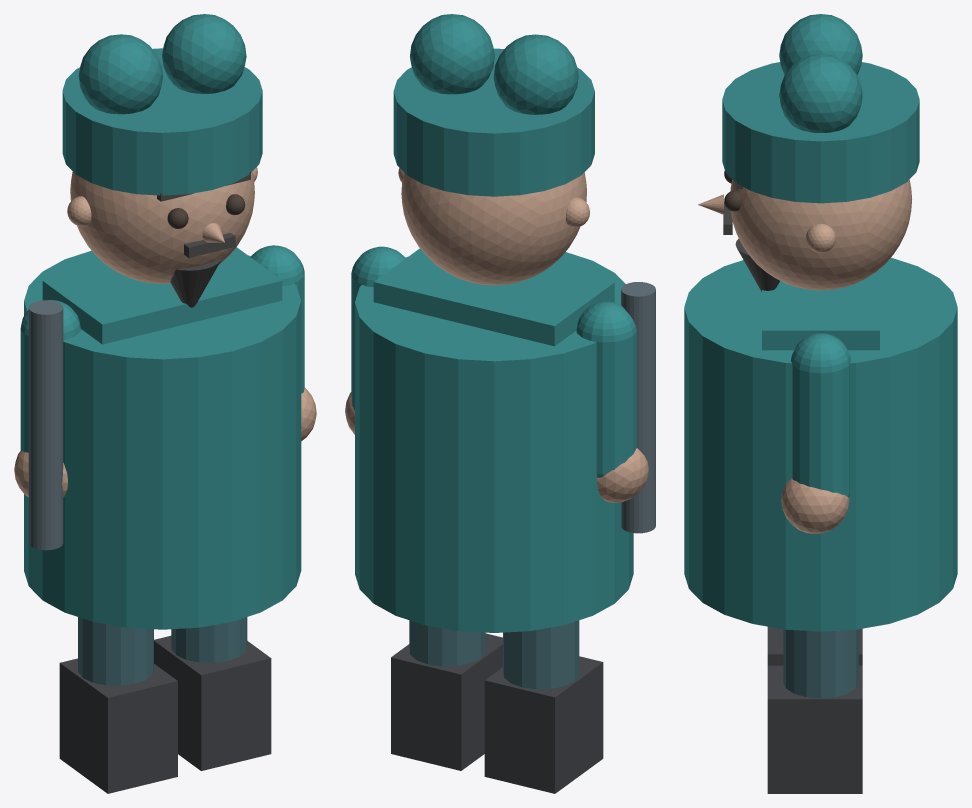
Rendered from hunmin.glb.
3 views of the same model, side by side, from view 1: azimuth 30°, elevation 25°; view 2: azimuth 150°, elevation 25°; view 3: azimuth 270°, elevation 25° (orthographic).
Visible parts, largest first — view 1: coat, hat, boot_L, head, torso, boot_R, staff_body, hat_bun_L, hat_bun_R, leg_L, leg_R, arm_R (+6 smaller); view 2: coat, hat, head, boot_L, torso, boot_R, arm_L, hat_bun_R, hat_bun_L, staff_body, leg_L, leg_R (+3 smaller); view 3: coat, hat, head, boot_R, arm_R, torso, hat_bun_R, leg_R, hat_bun_L, hand_R, boot_L, ear_R (+1 smaller).
Boxes of the visible parts, x1=… form: coat: x1=24, y1=250, x2=301, y2=629; hat: x1=62, y1=48, x2=262, y2=195; boot_L: x1=59, y1=658, x2=177, y2=793; head: x1=70, y1=171, x2=254, y2=283; torso: x1=42, y1=247, x2=282, y2=344; boot_R: x1=154, y1=635, x2=271, y2=770; staff_body: x1=28, y1=300, x2=63, y2=550; hat_bun_L: x1=78, y1=34, x2=163, y2=114; hat_bun_R: x1=162, y1=14, x2=246, y2=93; leg_L: x1=78, y1=617, x2=153, y2=685; leg_R: x1=171, y1=617, x2=247, y2=662; arm_R: x1=250, y1=245, x2=304, y2=393; coat: x1=355, y1=252, x2=633, y2=632; hat: x1=393, y1=48, x2=594, y2=196; head: x1=401, y1=172, x2=586, y2=285; boot_L: x1=484, y1=656, x2=603, y2=793; torso: x1=373, y1=248, x2=614, y2=346; boot_R: x1=391, y1=633, x2=502, y2=770; arm_L: x1=576, y1=301, x2=636, y2=477; hat_bun_R: x1=410, y1=14, x2=494, y2=94; hat_bun_L: x1=493, y1=34, x2=578, y2=114; staff_body: x1=621, y1=282, x2=655, y2=533; leg_L: x1=503, y1=620, x2=579, y2=689; leg_R: x1=409, y1=620, x2=485, y2=666; coat: x1=684, y1=257, x2=957, y2=631; hat: x1=722, y1=62, x2=919, y2=203; head: x1=730, y1=179, x2=911, y2=290; boot_R: x1=767, y1=665, x2=862, y2=793; arm_R: x1=790, y1=333, x2=851, y2=497; torso: x1=762, y1=269, x2=879, y2=350; hat_bun_R: x1=779, y1=54, x2=862, y2=132; leg_R: x1=783, y1=629, x2=858, y2=698; hat_bun_L: x1=779, y1=14, x2=862, y2=74; hand_R: x1=781, y1=478, x2=849, y2=533; boot_L: x1=767, y1=626, x2=862, y2=665; ear_R: x1=806, y1=223, x2=835, y2=252.
Bounding box in the file's own units: 1.76 × 4.16 × 1.44.
